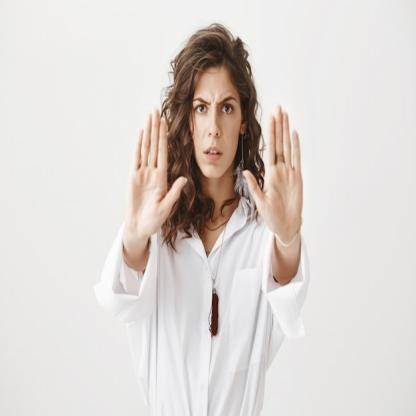stop: (240, 99, 306, 248), (124, 104, 187, 250)
